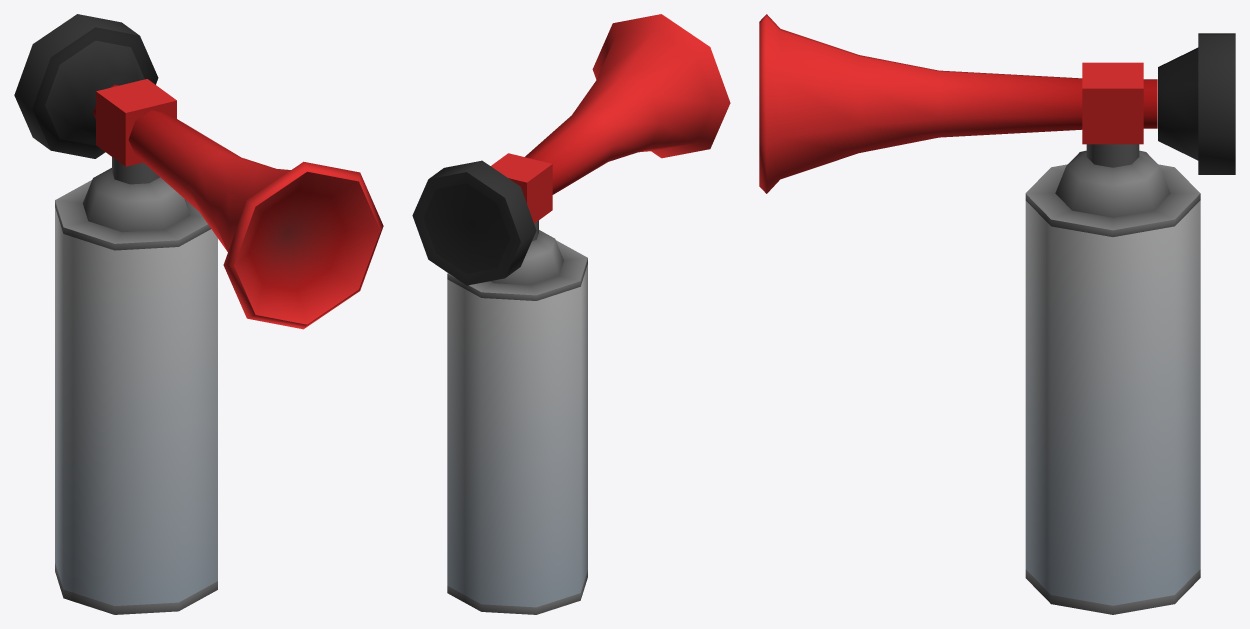
File: human-music-air-horn_v1.glb
The picture shows the model from 3 angles, left to right: view 1: azimuth 30°, elevation 25°; view 2: azimuth 150°, elevation 25°; view 3: azimuth 270°, elevation 25°; orthographic projection. The views are drawn at different scales.
Visible parts, largest first — view 1: Air Horn, Air Horn.001; view 2: Air Horn, Air Horn.001; view 3: Air Horn, Air Horn.001.
Part boxes in pixels (<box>): Air Horn: <box>14,14,217,605</box>; Air Horn.001: <box>55,79,383,614</box>; Air Horn: <box>412,160,587,607</box>; Air Horn.001: <box>447,14,730,614</box>; Air Horn: <box>1025,33,1235,605</box>; Air Horn.001: <box>759,14,1200,614</box>.
Bounding box in the file's own units: 0.0775 × 0.25 × 0.1925.
